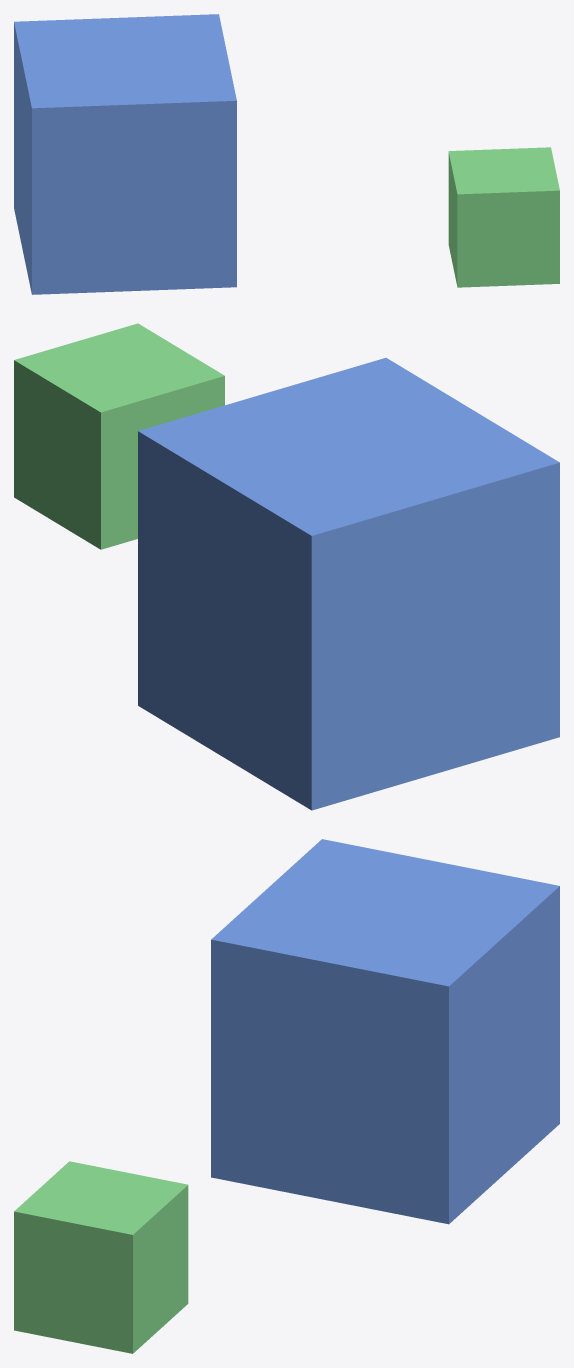
Rendered from testScene_reflection.dae.
3 views of the same model, one above another, from view 1: azimuth 30°, elevation 25°; view 2: azimuth 150°, elevation 25°; view 3: azimuth 270°, elevation 25° (orthographic). The views are drawn at different scales.
Visible parts, largest first — view 1: Cube_007, Cube_008; view 2: Cube_007, Cube_008; view 3: Cube_007, Cube_008.
Boxes of the visible parts, x1,y1,x2,y2 form: Cube_007: (14,14,236,294); Cube_008: (448,147,559,287); Cube_007: (138,358,559,810); Cube_008: (14,323,224,549); Cube_007: (211,839,559,1224); Cube_008: (14,1161,188,1353).
Size of what is drawn, in the model's own units: 2.5 by 2.08 by 1.
